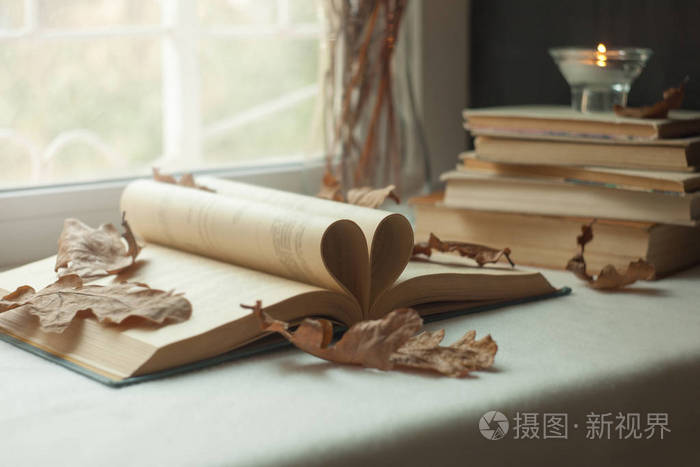book: (5, 158, 572, 388), (408, 194, 700, 286), (442, 172, 700, 222), (473, 131, 700, 170), (459, 107, 700, 141)
